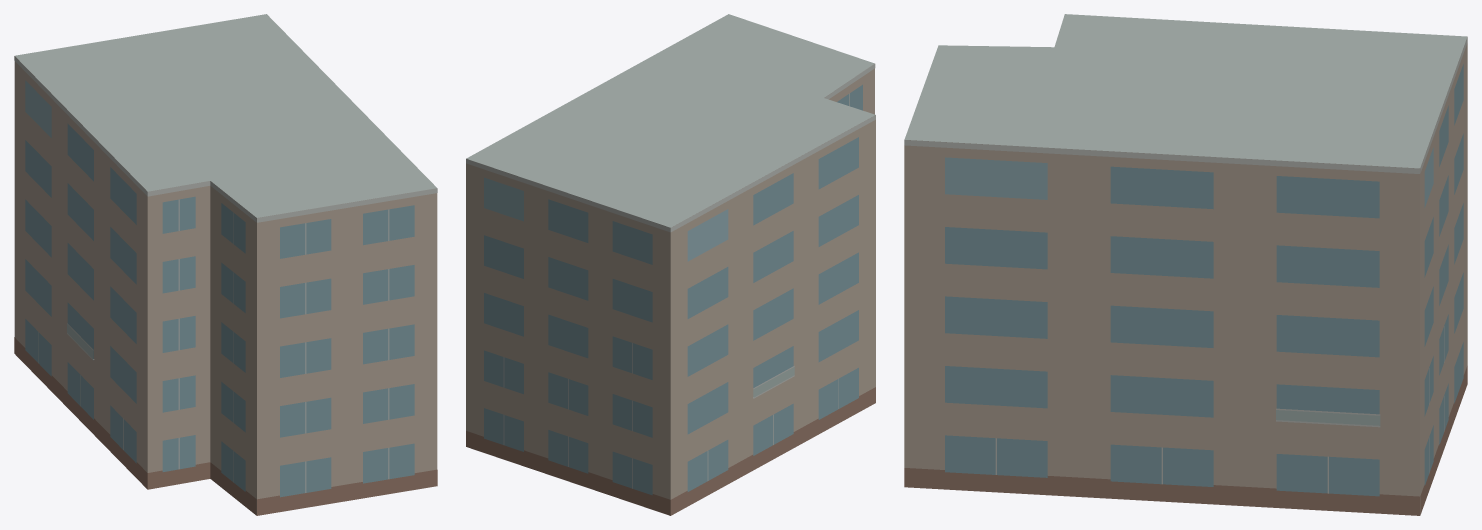
The model's file is survey-upis-32473742.glb.
3 views of the same model, side by side, from view 1: azimuth 30°, elevation 25°; view 2: azimuth 150°, elevation 25°; view 3: azimuth 270°, elevation 25° (orthographic). The views are drawn at different scales.
Parts seen in each view (by area): view 1: survey-upis-32473742.tmp; view 2: survey-upis-32473742.tmp; view 3: survey-upis-32473742.tmp.
Part boxes in pixels (box(x1,y1,x2,y2)): survey-upis-32473742.tmp: box(14, 14, 437, 515); survey-upis-32473742.tmp: box(466, 14, 875, 515); survey-upis-32473742.tmp: box(904, 14, 1467, 515).
Size of the model in its own units: 14.21 by 14.9 by 21.9.
